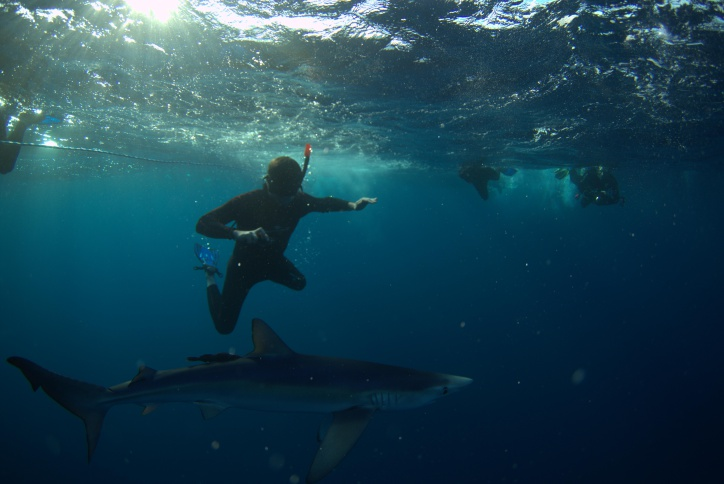Azul: (12, 314, 491, 484)
